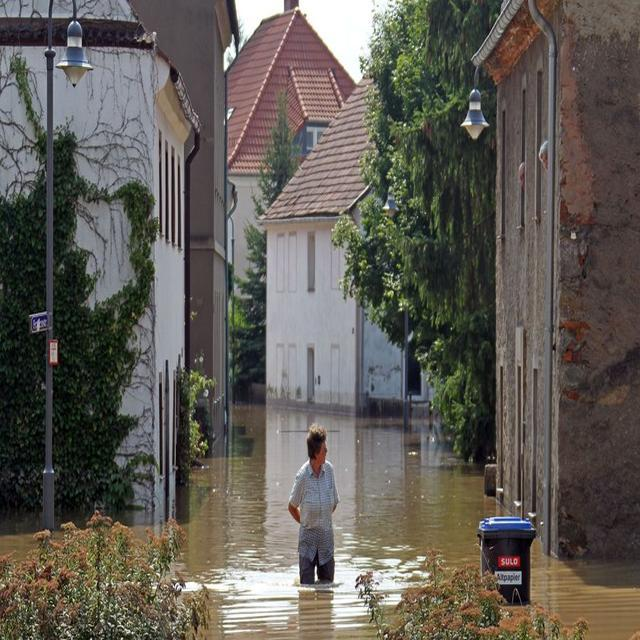Person-RiskLevel2: (280, 419, 351, 591)
